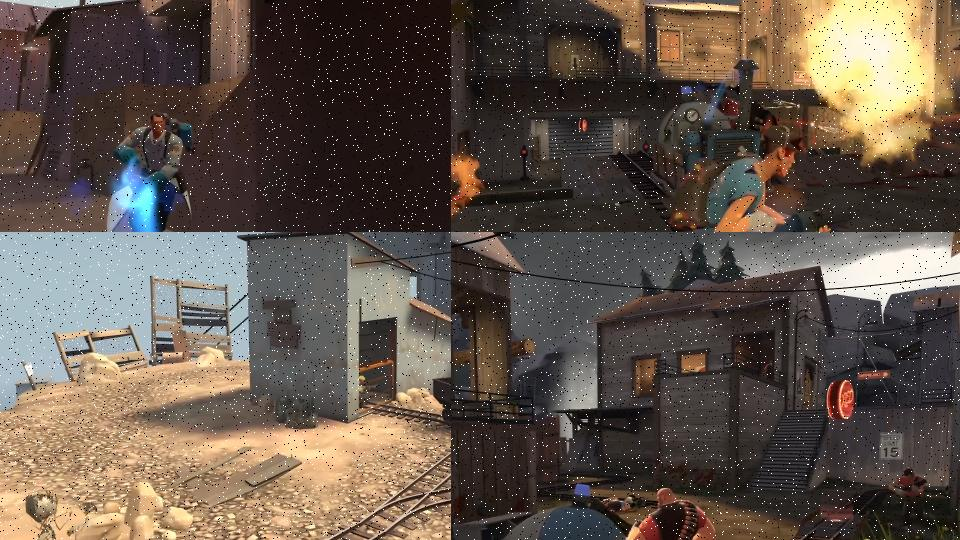Enemy: (625, 124, 853, 232), (105, 110, 197, 232), (589, 487, 716, 540), (889, 468, 927, 540)
